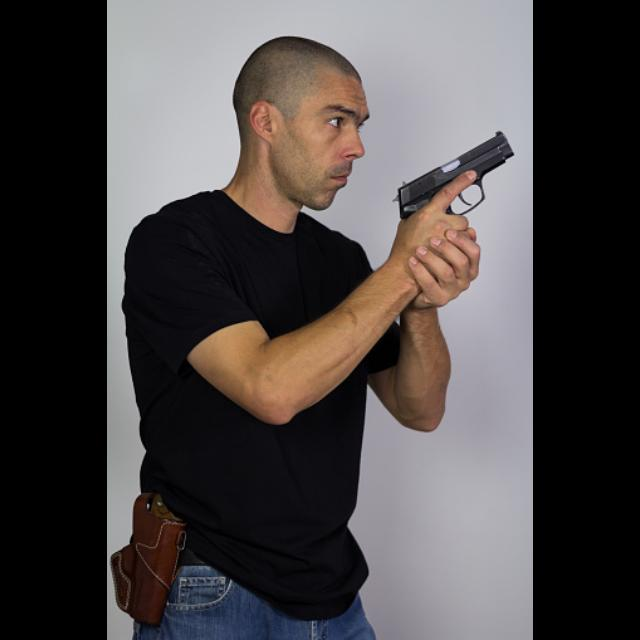handgun: (390, 129, 520, 227)
